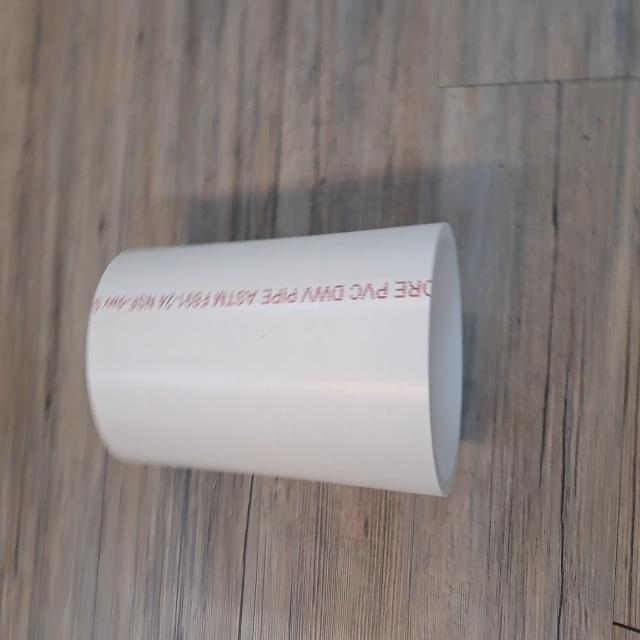CORAL: (78, 212, 470, 510)
